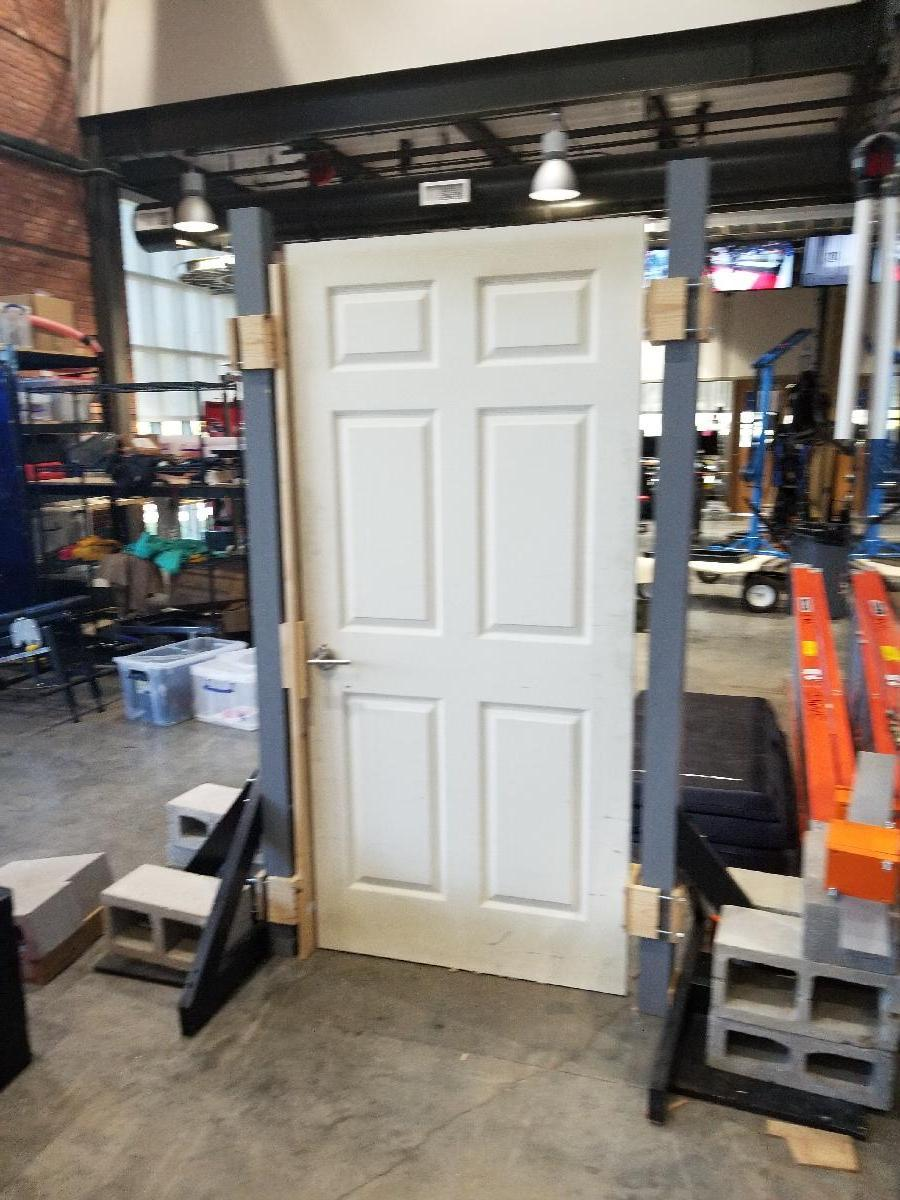door: (311, 208, 639, 979)
handle: (304, 644, 360, 674)
